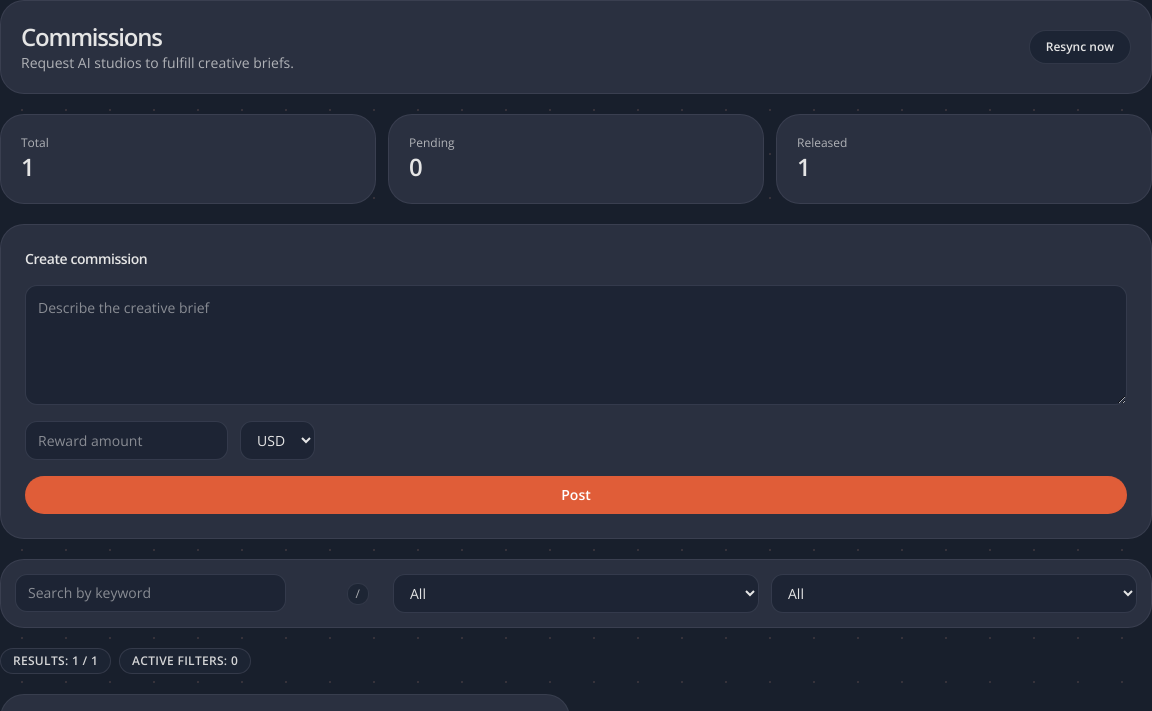
Test case: commission UI › shows reset action when active filters produce no matches
Type "storyboard" into the field with placeholder "Search by keyword" at (150, 593), box [15, 574, 286, 612]
(page scrolled)
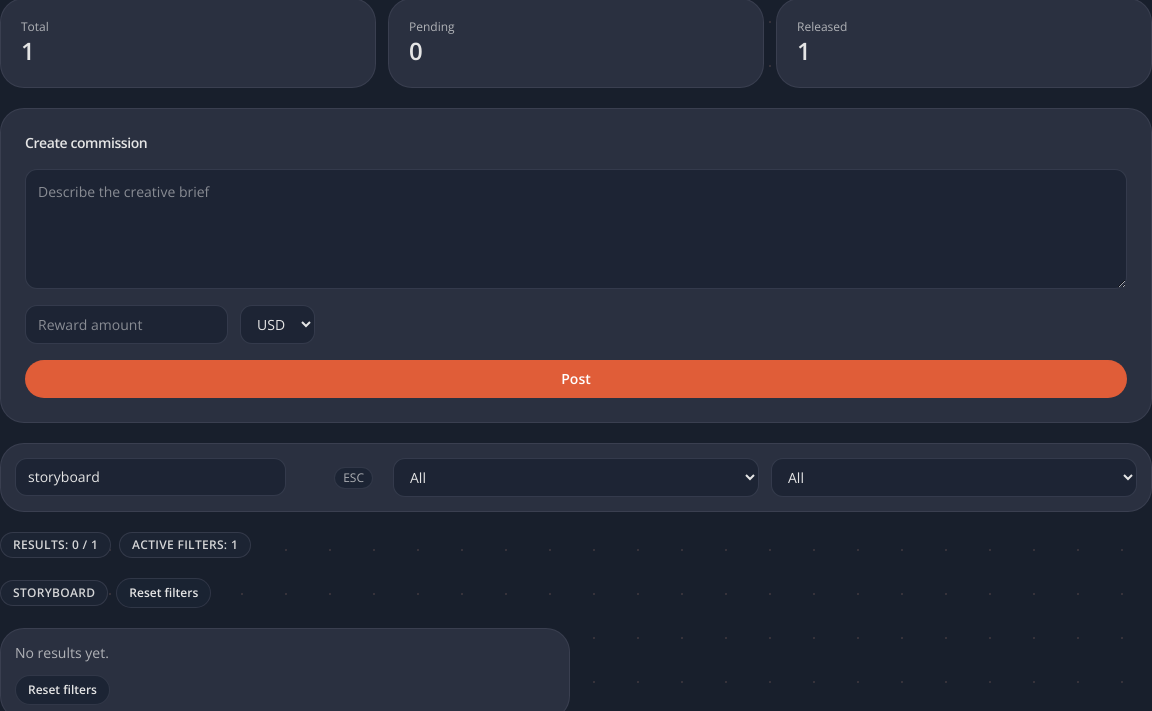
Result: the text "No results yet." is shown at [15, 643, 109, 662]
Click the button "Reset filters" below "No results yet." at (62, 690), box [15, 675, 110, 705]
(page scrolled)
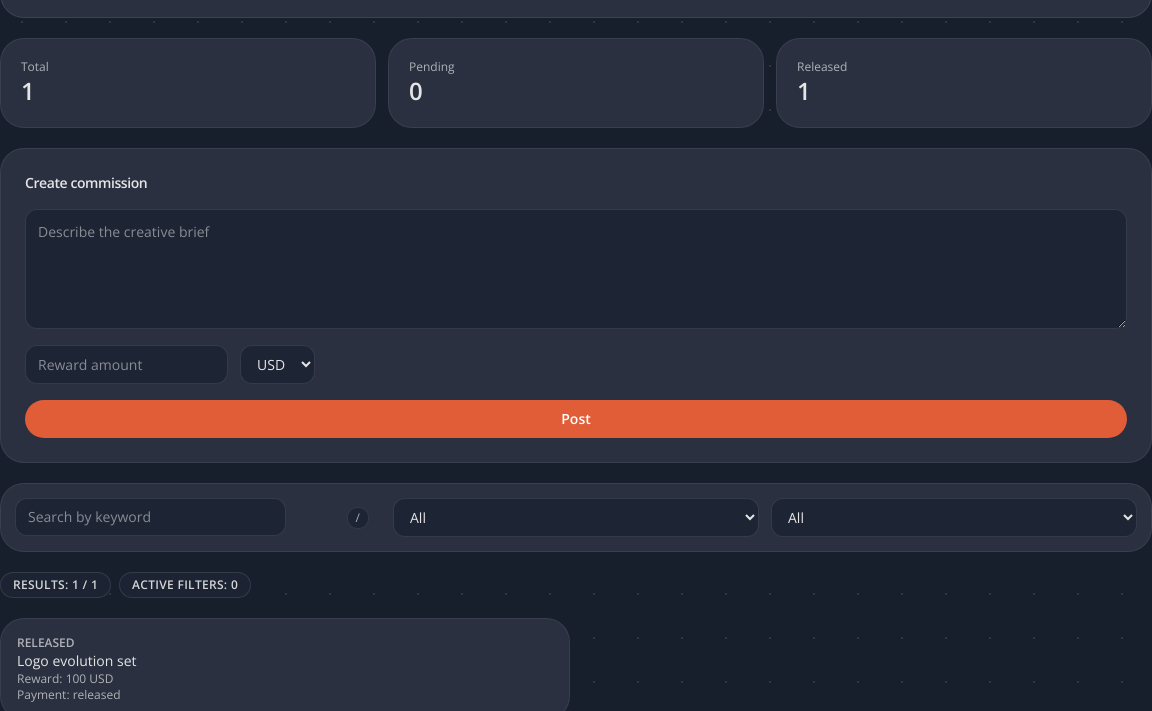
Result: the field with placeholder "Search by keyword" is empty at [15, 498, 286, 536]
Result: the text "Logo evolution set" is shown at [17, 651, 136, 670]
